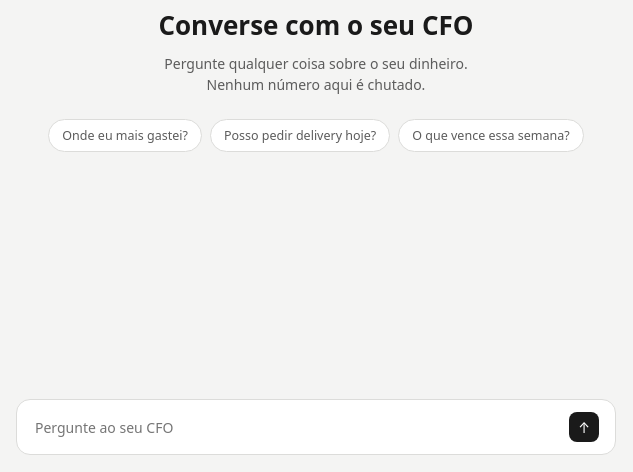
Scenario: TelaChat › envia a pergunta digitada para o servidor e mostra a resposta real
Type "Onde eu mais gastei?" into the field labelled "Pergunte ao seu CFO".
click(295, 427); type("Onde eu mais gastei?")  # box [33, 416, 557, 438]
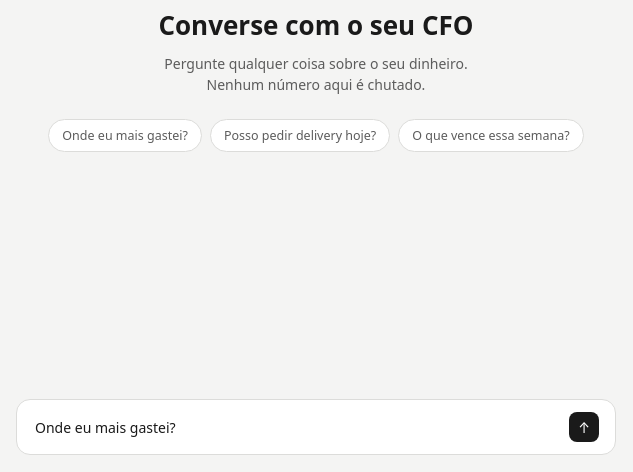
Click the button named "Enviar".
click(584, 427)  # box [569, 412, 599, 442]
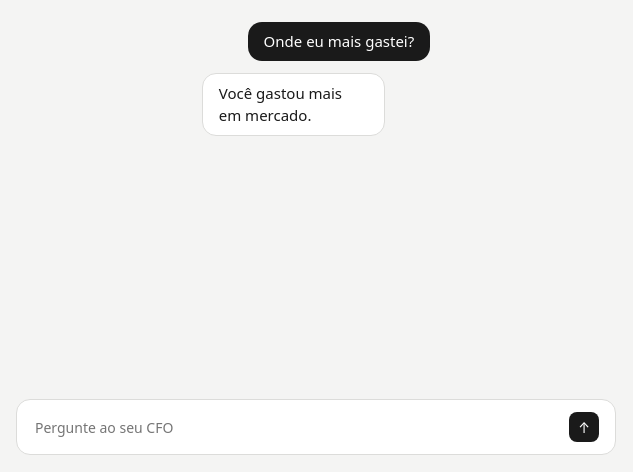
Check: the list item "Onde eu mais gastei?" is shown, box [248, 22, 430, 61]
Check: the list item "Você gastou mais em mercado." is shown, box [202, 73, 384, 136]
